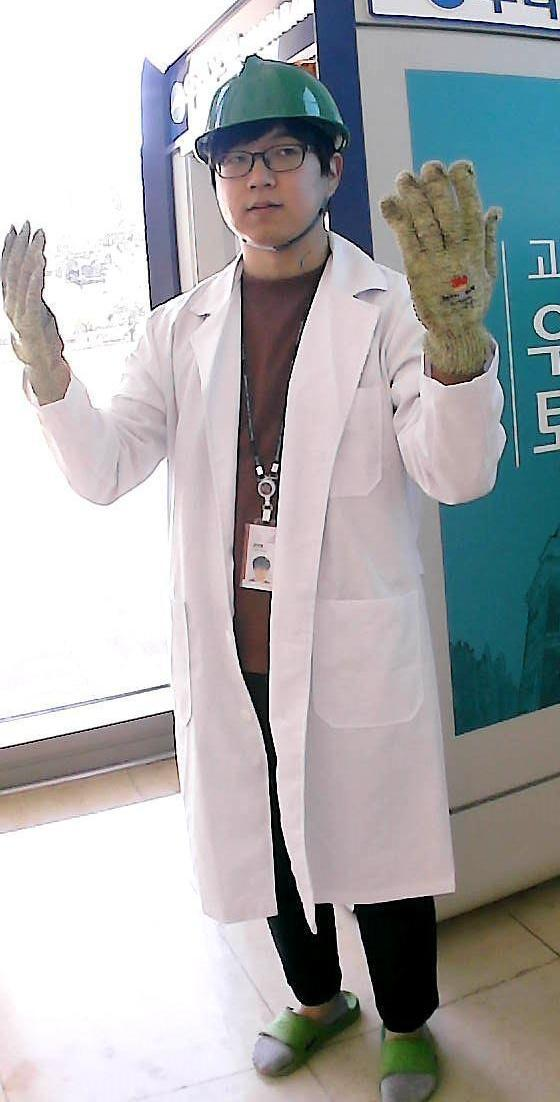lab_coat: (181, 276, 406, 910)
